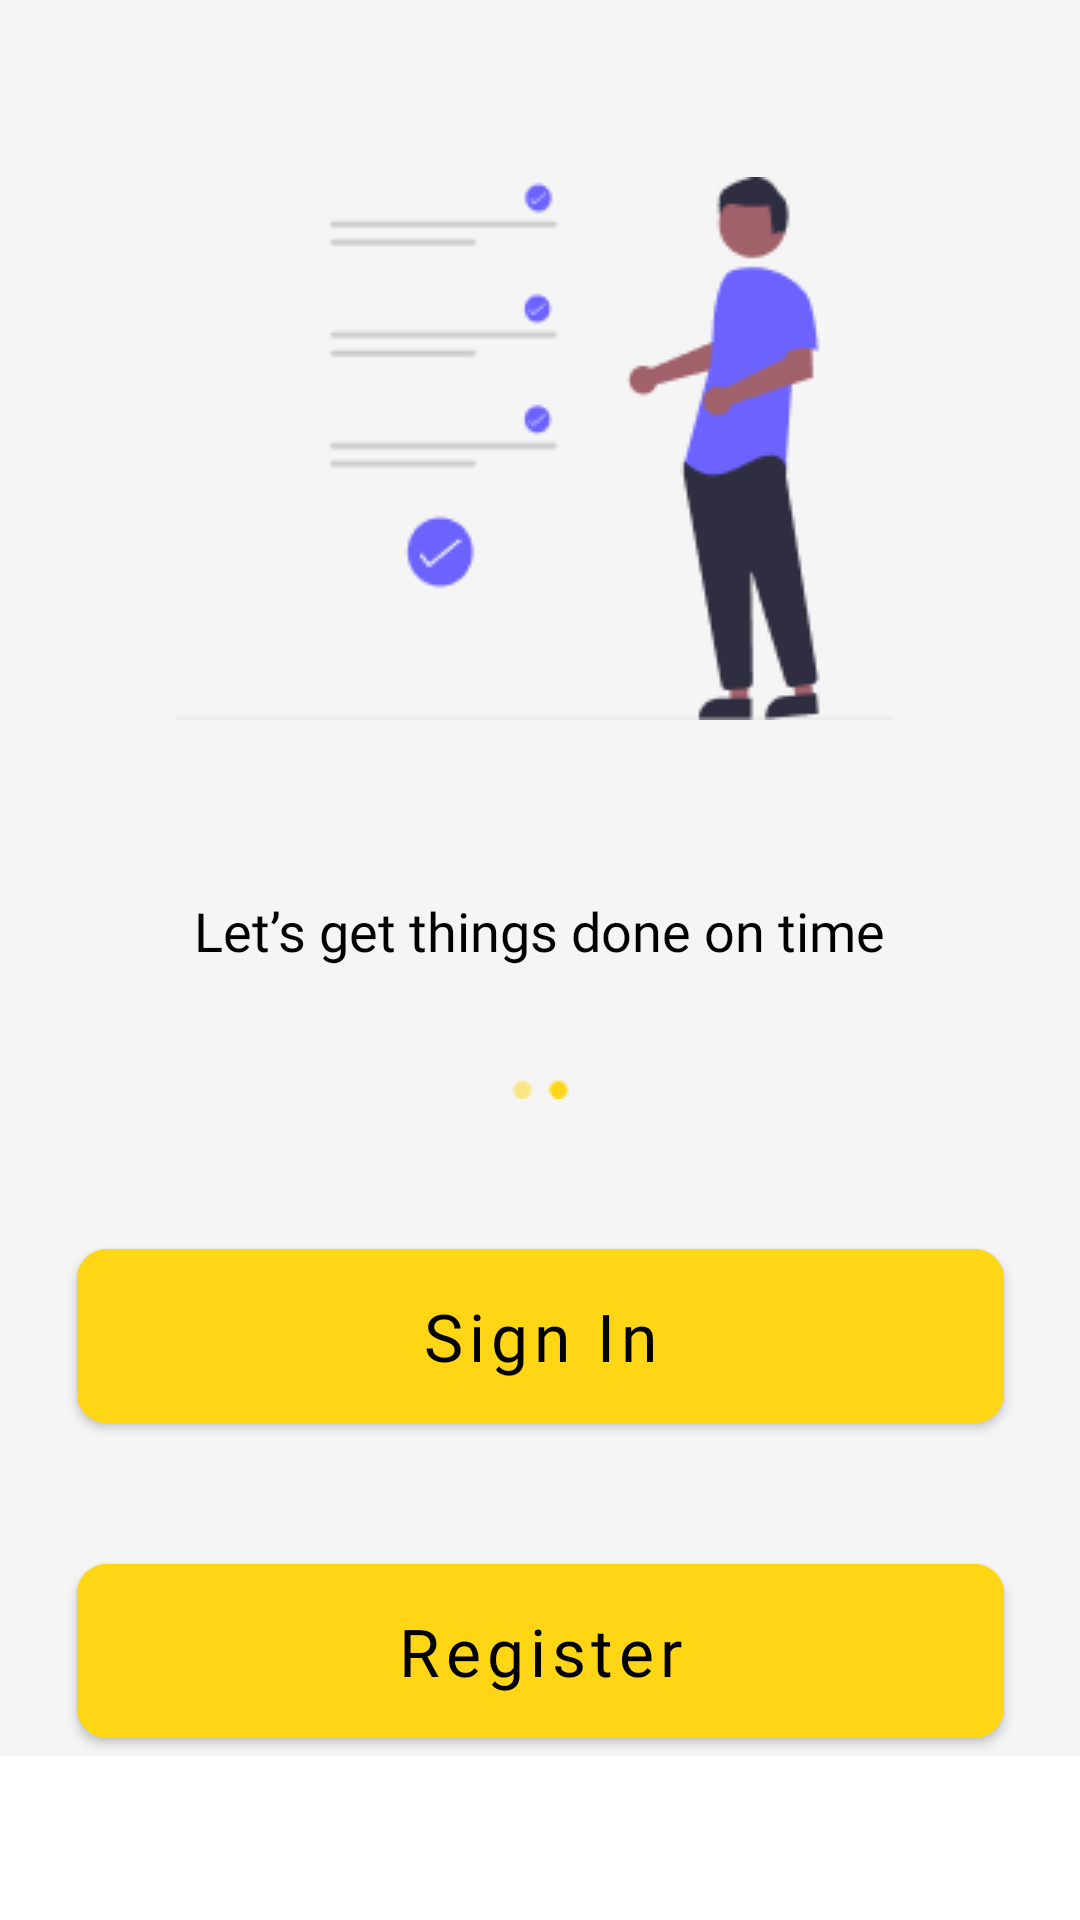

Screen size 1080x1920. Icon name, then its center in pixels as (x,y):
ind sc: (541,1089)
